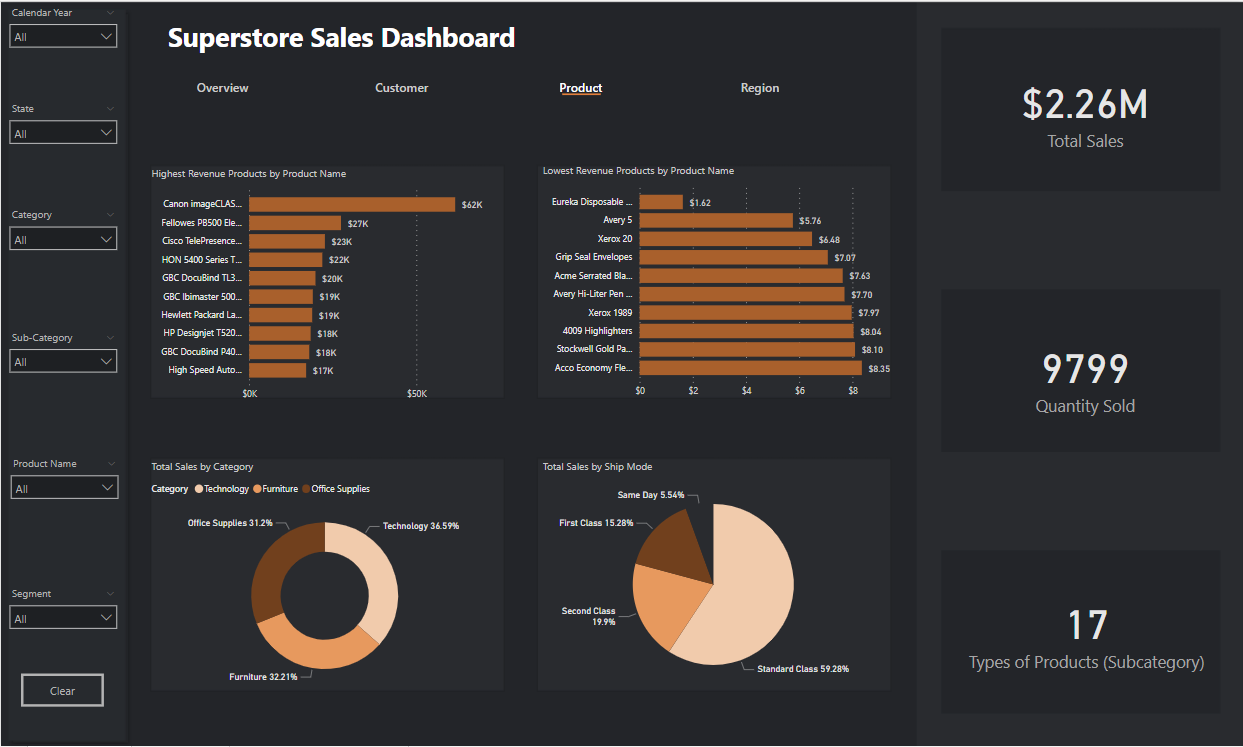

What the dashboard file says about the page in this screenshot:
{"tool":"powerbi","page":{"name":"Product","canvas":[1500,900],"ordinal":2},"visuals":[{"type":"clusteredBarChart","fields":{"Y":["DIM-products.Product Sales rank ProductID"],"Category":["DIM-products.Product Name"]},"box":[176.7,198.3,438.3,291.7],"z":0},{"type":"clusteredBarChart","fields":{"Y":["FACT-sales.Lowest Product Sales"],"Category":["DIM-products.Product Name"]},"box":[648.3,196.7,436.7,291.7],"z":1000},{"type":"pieChart","fields":{"Y":["FACT-sales.Total Sales"],"Category":["DIM-orders.Ship Mode"]},"box":[648.3,553.3,421.7,285],"z":2000},{"type":"donutChart","fields":{"Y":["FACT-sales.Total Sales"],"Category":["DIM-products.Category","DIM-products.Sub-Category"]},"box":[176.7,553.3,428.3,285],"z":3000},{"type":"card","fields":{"Values":["FACT-sales.Total Sales"]},"box":[1131.7,31.7,351.7,198.3],"z":4000},{"type":"card","fields":{"Values":["DIM-products.Types of Products (Subcategory)"]},"box":[1133.3,660,351.7,198.3],"z":5000},{"type":"card","fields":{"Values":["DIM-orders.Quantity Sold"]},"box":[1131.7,351.7,351.7,198.3],"z":6000},{"type":"textbox","box":[196.7,16.7,508.3,228.3],"z":7000},{"type":"pageNavigator","box":[164.2,80.5,856.2,49.9],"z":8000},{"type":"shape","box":[676.7,31.7,46.7,161.7],"z":9000},{"type":"slicer","fields":{"Values":["Date.Calendar Year"]},"box":[0,0,149.7,115.9],"z":10000},{"type":"slicer","fields":{"Values":["DIM-region.State"]},"box":[0,115.9,149.7,115.9],"z":11000},{"type":"slicer","fields":{"Values":["DIM-products.Category"]},"box":[0,244.6,149.7,115.9],"z":12000},{"type":"slicer","fields":{"Values":["DIM-products.Sub-Category"]},"box":[0,392.7,149.7,115.9],"z":13000},{"type":"slicer","fields":{"Values":["DIM-products.Product Name"]},"box":[1.6,544,149.7,115.9],"z":14000},{"type":"slicer","fields":{"Values":["DIM-customers.Segment"]},"box":[0,701.7,149.7,115.9],"z":15000},{"type":"actionButton","box":[24,810.9,99.9,39.9],"z":16000}]}

Visuals, with their boxes in screenshot pixels (x1, y1, x2, y2), scaled from the page's 1500x900 canvas onto the 1243x747 screenshot:
clusteredBarChart - DIM-products.Product Sales rank ProductID x DIM-products.Product Name: bbox(146, 165, 510, 407)
clusteredBarChart - FACT-sales.Lowest Product Sales x DIM-products.Product Name: bbox(537, 163, 899, 405)
pieChart - FACT-sales.Total Sales x DIM-orders.Ship Mode: bbox(537, 459, 887, 696)
donutChart - FACT-sales.Total Sales x DIM-products.Category: bbox(146, 459, 501, 696)
card - FACT-sales.Total Sales: bbox(938, 26, 1229, 191)
card - DIM-products.Types of Products (Subcategory): bbox(939, 548, 1231, 712)
card - DIM-orders.Quantity Sold: bbox(938, 292, 1229, 456)
textbox: bbox(163, 14, 584, 203)
pageNavigator: bbox(136, 67, 846, 108)
shape: bbox(561, 26, 599, 161)
slicer - Date.Calendar Year: bbox(0, 0, 124, 96)
slicer - DIM-region.State: bbox(0, 96, 124, 192)
slicer - DIM-products.Category: bbox(0, 203, 124, 299)
slicer - DIM-products.Sub-Category: bbox(0, 326, 124, 422)
slicer - DIM-products.Product Name: bbox(1, 452, 125, 548)
slicer - DIM-customers.Segment: bbox(0, 582, 124, 679)
actionButton: bbox(20, 673, 103, 706)
